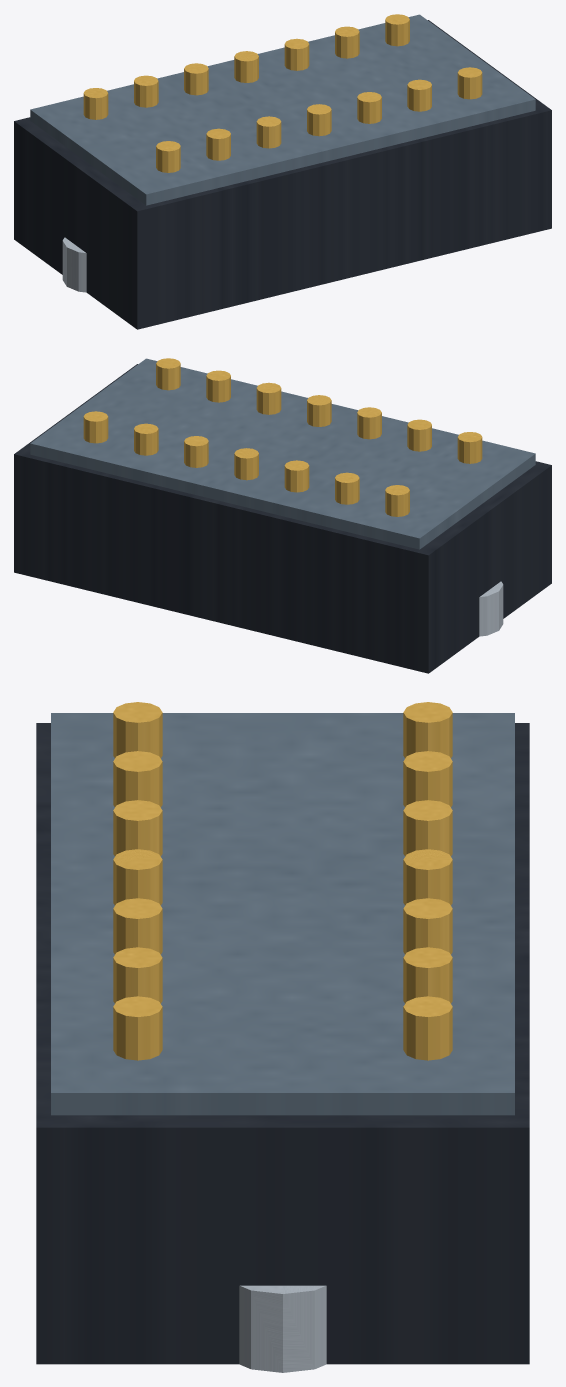
The picture shows the model from 3 angles, top to bottom: view 1: azimuth 30°, elevation 25°; view 2: azimuth 150°, elevation 25°; view 3: azimuth 270°, elevation 25°; orthographic projection. The views are drawn at different scales.
Parts seen in each view (by area): view 1: 019_L125_J3__PSMAT__connector, 019_L125_J3__PSMAT__steel, 019_L125_J3__PSMAT__gold, 019_L125_J3__PSMAT__silver; view 2: 019_L125_J3__PSMAT__connector, 019_L125_J3__PSMAT__steel, 019_L125_J3__PSMAT__gold, 019_L125_J3__PSMAT__silver; view 3: 019_L125_J3__PSMAT__steel, 019_L125_J3__PSMAT__connector, 019_L125_J3__PSMAT__gold, 019_L125_J3__PSMAT__silver.
Boxes of the visible parts, x1,y1,x2,y2 form: 019_L125_J3__PSMAT__connector: (14, 20, 551, 329); 019_L125_J3__PSMAT__steel: (30, 14, 535, 205); 019_L125_J3__PSMAT__gold: (83, 14, 482, 172); 019_L125_J3__PSMAT__silver: (62, 237, 86, 292); 019_L125_J3__PSMAT__connector: (14, 364, 551, 673); 019_L125_J3__PSMAT__steel: (30, 358, 535, 549); 019_L125_J3__PSMAT__gold: (83, 358, 482, 516); 019_L125_J3__PSMAT__silver: (479, 581, 503, 636); 019_L125_J3__PSMAT__steel: (51, 713, 514, 1115); 019_L125_J3__PSMAT__connector: (36, 723, 529, 1364); 019_L125_J3__PSMAT__gold: (113, 702, 452, 1060); 019_L125_J3__PSMAT__silver: (239, 1285, 326, 1372).
Size of the model in its own units: 0.0344 by 0.0115 by 0.017.
Materials: 4 (4 with a texture image).
